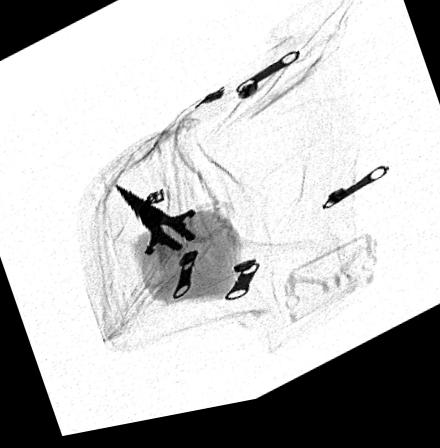Scissors: (107, 184, 242, 298)
